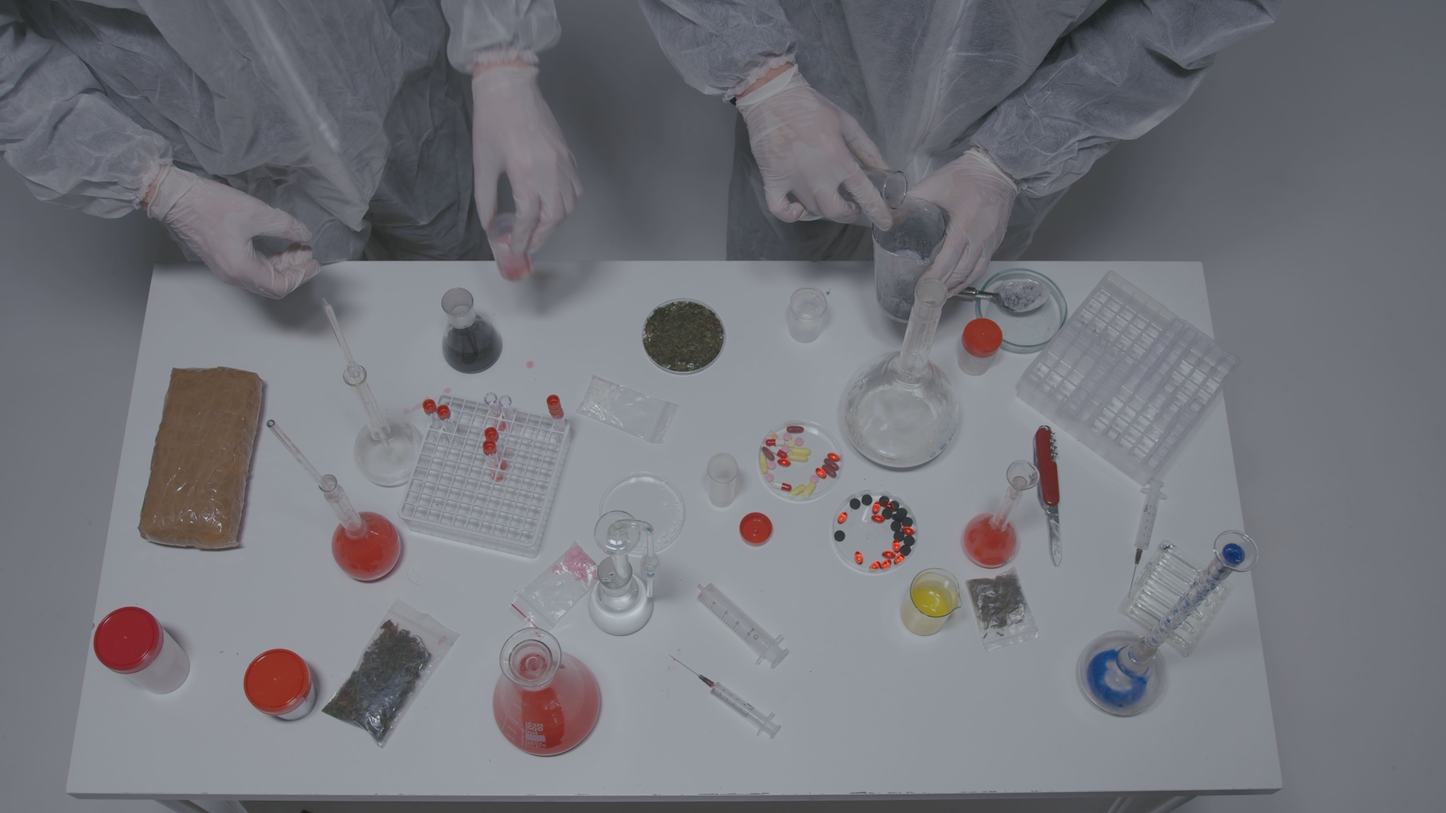gloves: (710, 61, 902, 238), (149, 148, 341, 318), (442, 58, 592, 265), (907, 144, 1028, 302)
